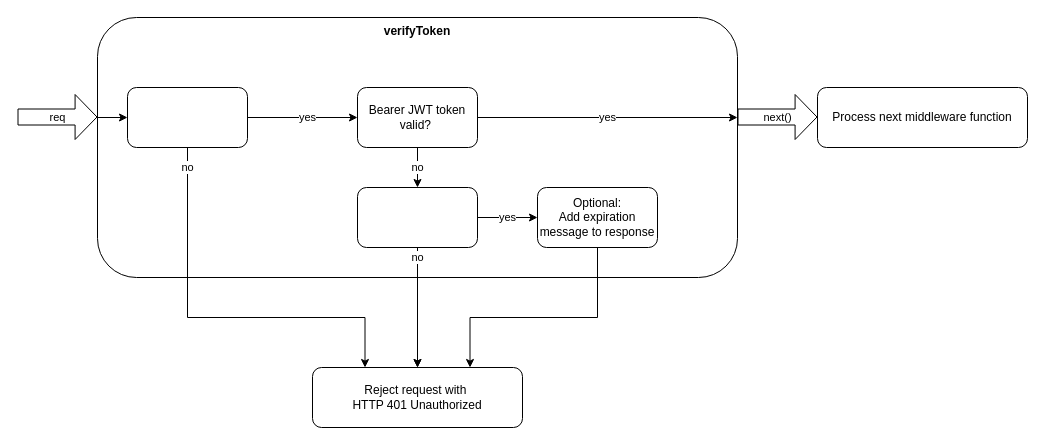
This 1045x445 diagram has some shape labels left out. The shapes that lost their labels are listed below. From the top down, each one's centre as x and y in pixels, then its label:
At point 187,117: "Authorization header present?".
At point 417,217: "Token valid but expired?".
